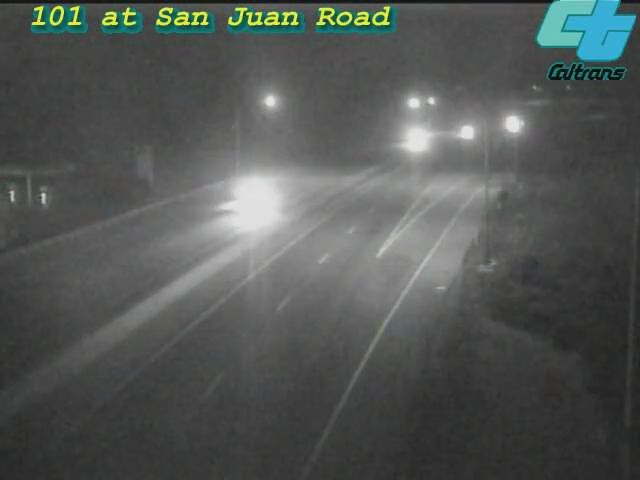vehicle: (207, 163, 287, 243), (389, 115, 439, 165), (436, 107, 486, 157), (489, 99, 539, 149)
